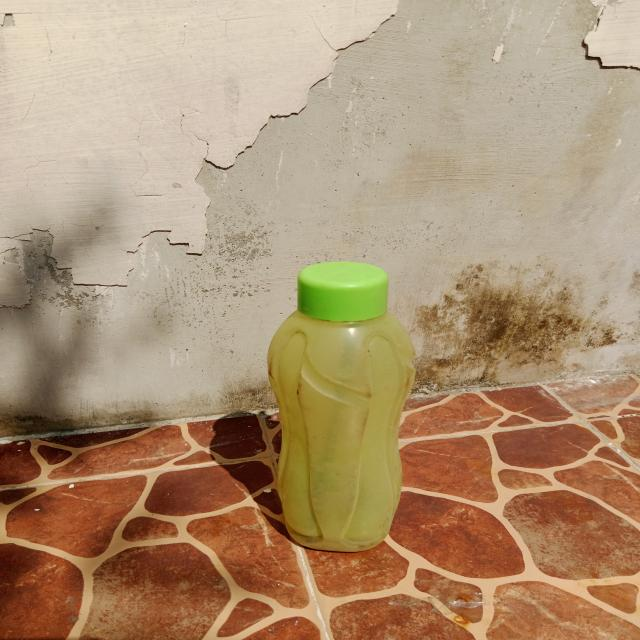botol_minum: (232, 243, 448, 566)
